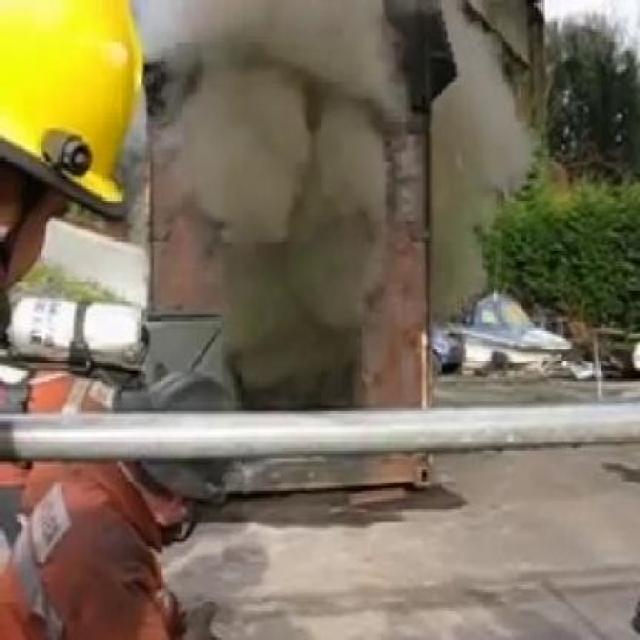smoke: (176, 13, 399, 358), (434, 90, 526, 288)
